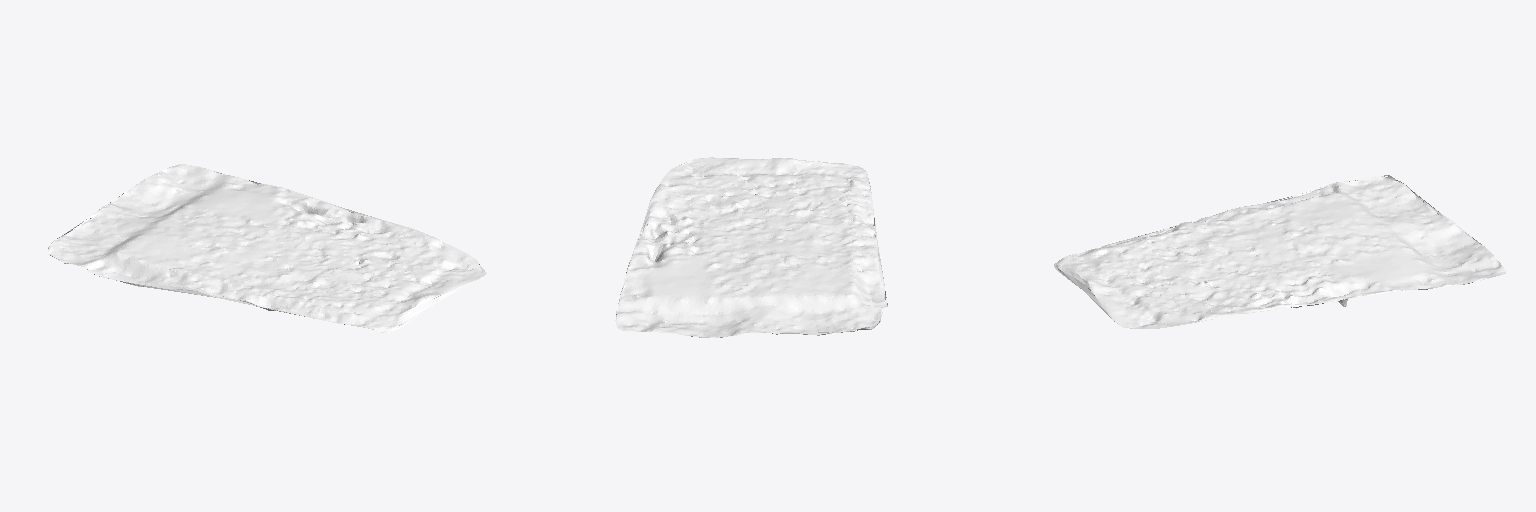
The model's file is Scaniverse_2025_05_03_180103.obj.
The picture shows the model from 3 angles: view 1: azimuth 30°, elevation 25°; view 2: azimuth 150°, elevation 25°; view 3: azimuth 270°, elevation 25°; orthographic projection.
Parts seen in each view (by area): view 1: mesh; view 2: mesh; view 3: mesh.
Boxes of the visible parts, <box> form: mesh: <box>47,164,486,332</box>; mesh: <box>615,157,887,337</box>; mesh: <box>1054,175,1505,328</box>.
Size of the model in its own units: 0.6259 by 0.0377 by 0.7778.